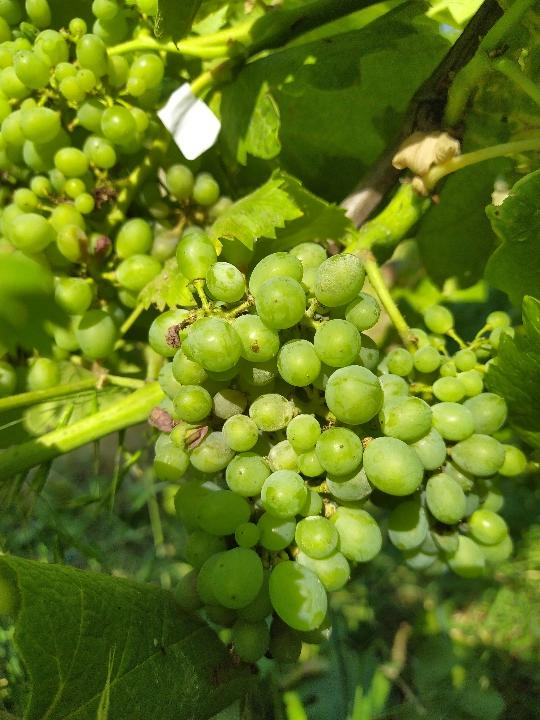grape: (144, 230, 533, 669)
